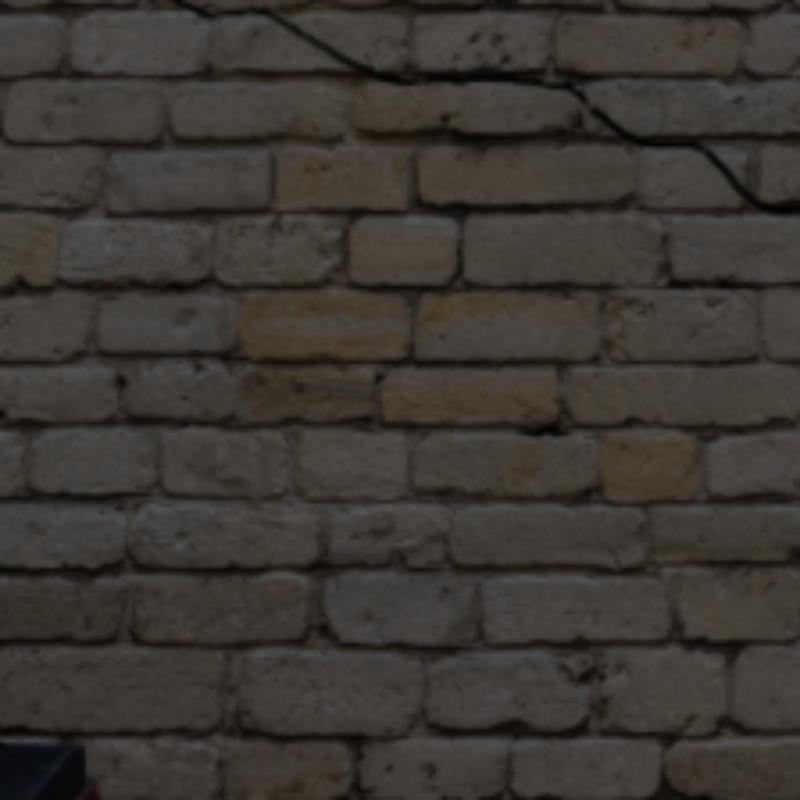crack: (264, 11, 529, 82), (663, 143, 796, 211), (594, 110, 650, 142), (171, 0, 264, 14), (541, 82, 589, 106)
